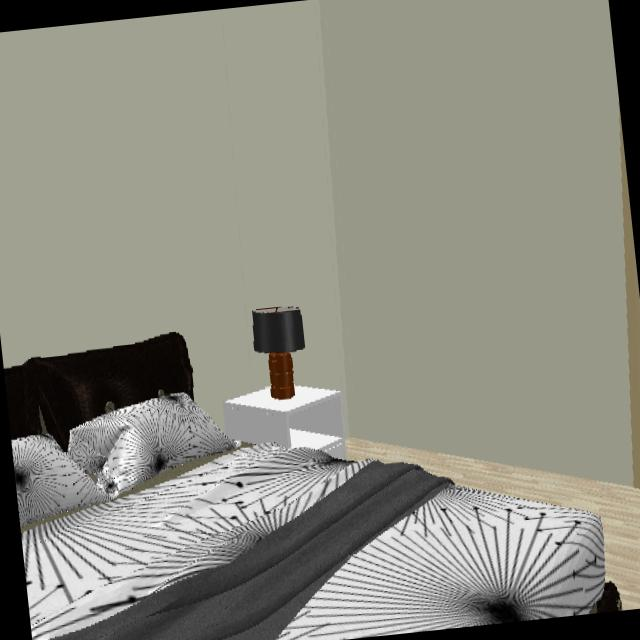bed: (21, 445, 621, 640), (3, 334, 196, 452)
lamp: (251, 309, 306, 398)
nighttable: (224, 386, 348, 457)
pillow: (68, 391, 237, 499), (11, 435, 109, 528)
